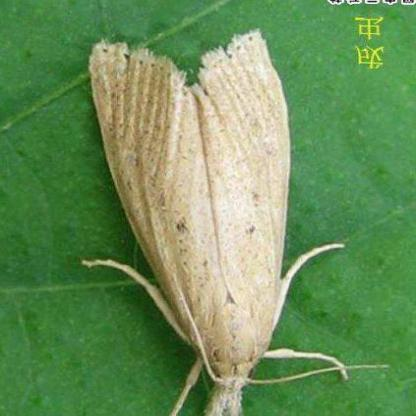stem-borer: (83, 27, 315, 416)
